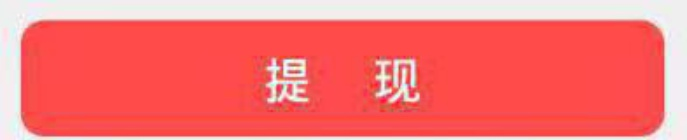Button: (1, 1, 686, 139)
